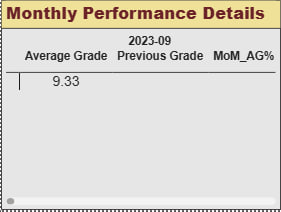

Layout of this report page (visuals, bound fields, positions):
{"tool":"powerbi","page":{"name":"MoM%_AG_Details ","canvas":[320,240],"ordinal":3},"visuals":[{"type":"pivotTable","title":"Monthly Performance Details","fields":{"Columns":["Calendar.Year-Month"],"Values":["_Measures.Average Grade","_Measures.Previous Grade","_Measures.MoM_AG%"]},"box":[0,0,320,240],"z":0}]}

Visuals, with their boxes in screenshot pixels (x1, y1, x2, y2), scaled from the page's 320x240 canvas onto the 281x212 screenshot:
"Monthly Performance Details" pivotTable: locate(0, 0, 280, 211)
